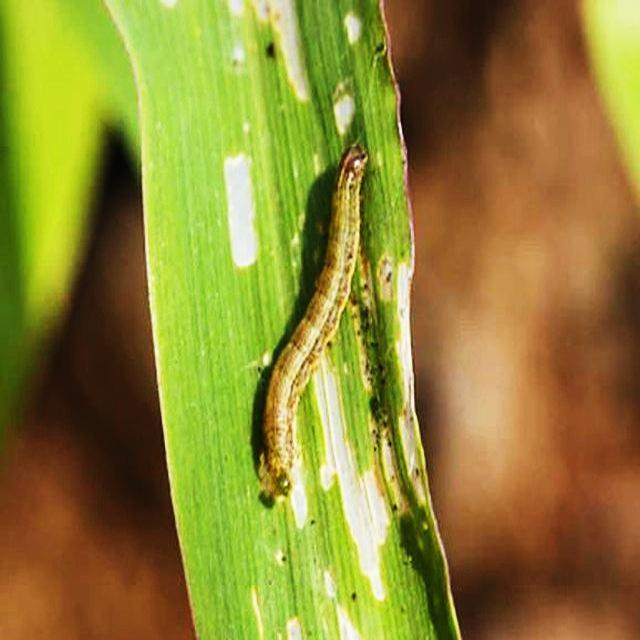worm: (255, 142, 370, 508)
